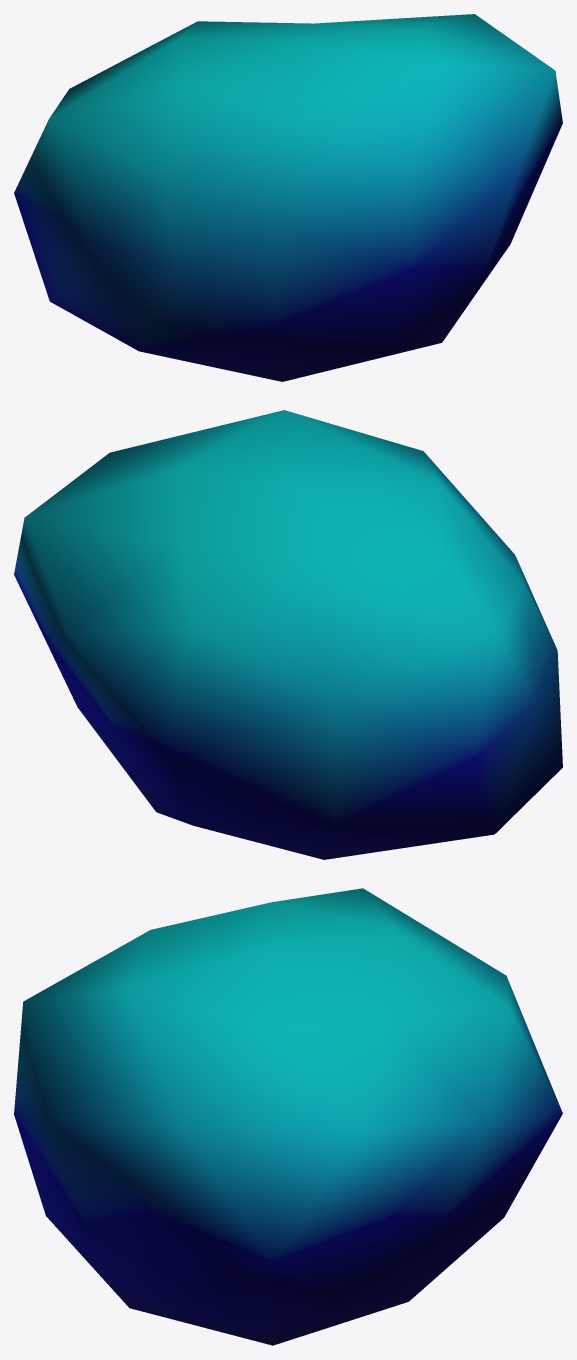
File: RockAngular_1_lod2.glb
The picture shows the model from 3 angles, top to bottom: view 1: azimuth 30°, elevation 25°; view 2: azimuth 150°, elevation 25°; view 3: azimuth 270°, elevation 25°; orthographic projection. The views are drawn at different scales.
Visible parts, largest first — view 1: RockAngular_1_lod2; view 2: RockAngular_1_lod2; view 3: RockAngular_1_lod2.
Part boxes in pixels (<box>): RockAngular_1_lod2: <box>14,14,562,381</box>; RockAngular_1_lod2: <box>14,410,562,859</box>; RockAngular_1_lod2: <box>14,888,562,1345</box>.
Bounding box in the file's own units: 2.22 × 1.28 × 1.89.
